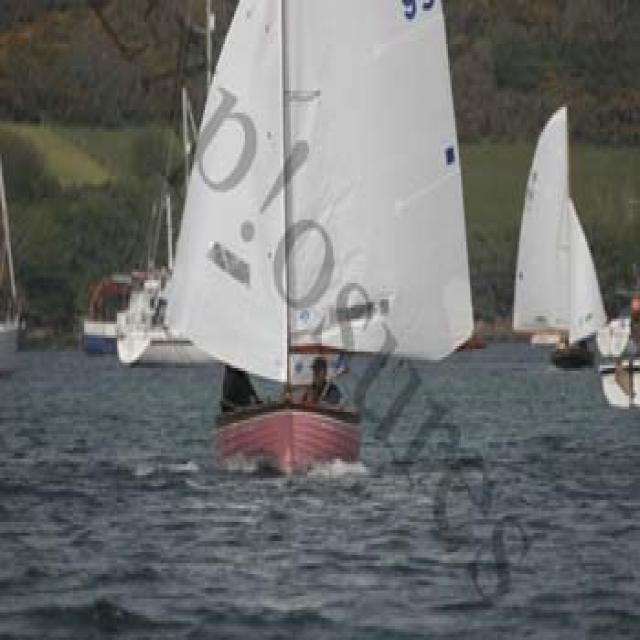Ship: (169, 1, 475, 482), (513, 90, 611, 373)
